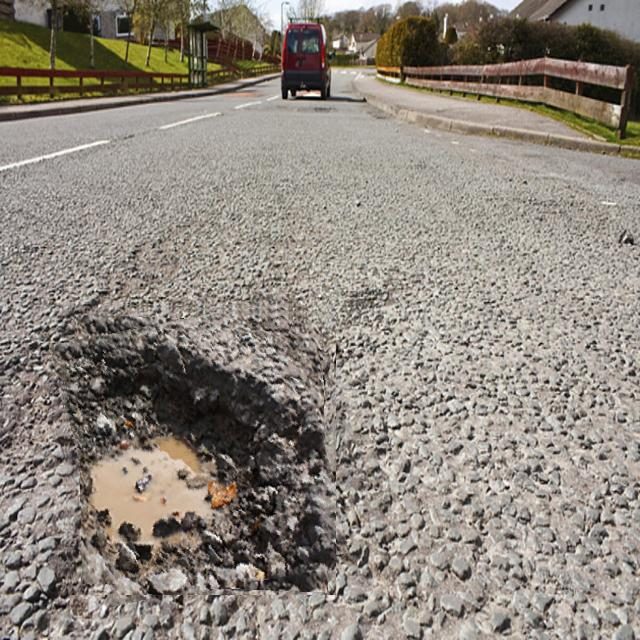Pothole: (62, 302, 336, 595)
